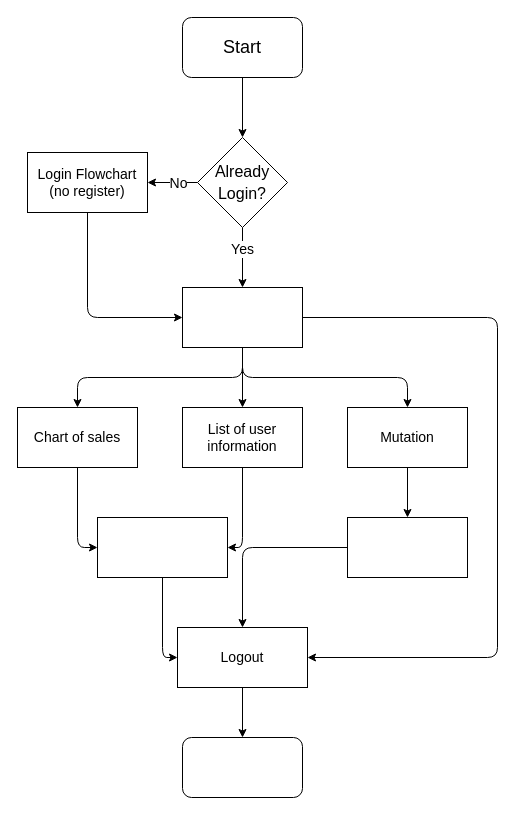
Some shapes in this 523 by 815 pixel diagram are drawn without their labels. Each missing label, with the centre of its shape:
Dashboard Admin: the point at 242,317
End: the point at 242,767
Monitoring and actions: the point at 162,547
Print: the point at 407,547
